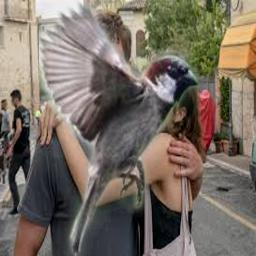Sparrow: (39, 0, 198, 256)
